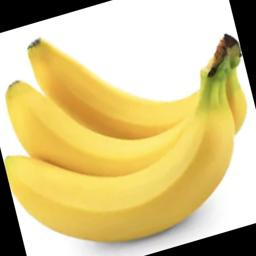Banana Fresh: (0, 1, 256, 256)
